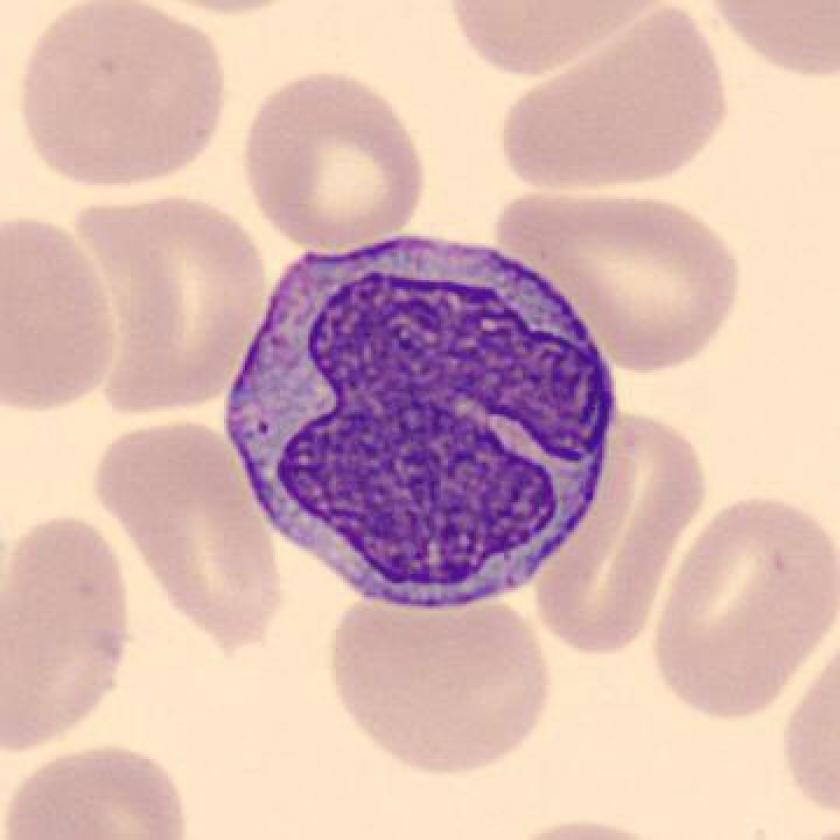monocyte: (216, 225, 636, 626)
